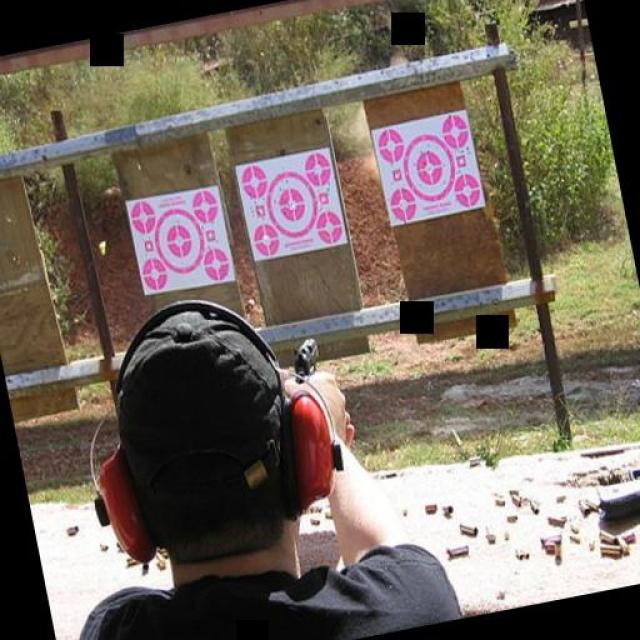gun: (586, 441, 640, 534), (286, 334, 322, 384)
